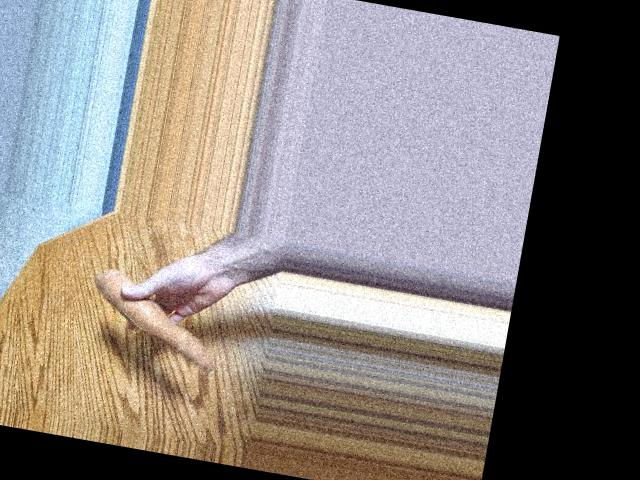sweet_potato: (70, 268, 225, 362)
